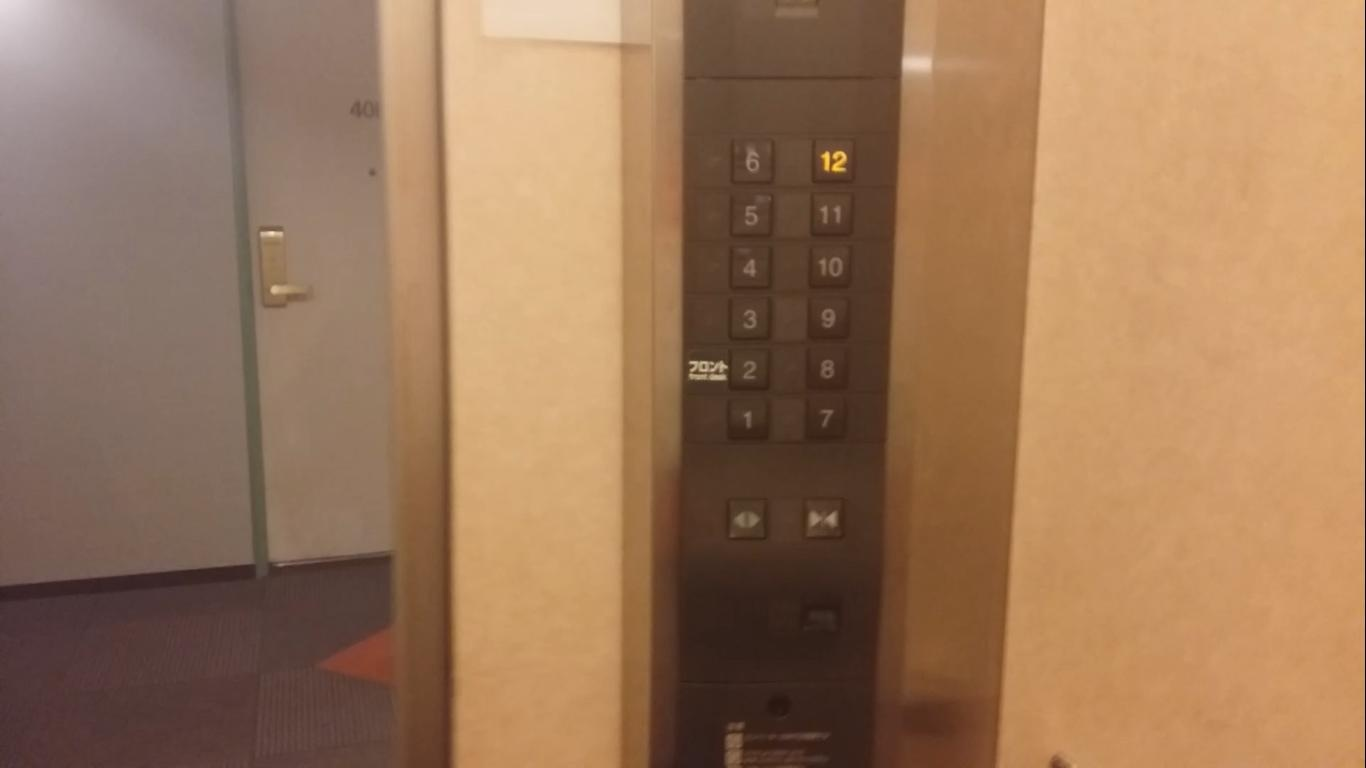1: (724, 394, 772, 445)
10: (803, 242, 853, 290)
11: (806, 189, 856, 239)
12: (810, 135, 858, 186)
2: (725, 345, 772, 392)
3: (725, 292, 776, 342)
4: (726, 240, 775, 292)
5: (728, 190, 776, 239)
6: (728, 133, 777, 188)
7: (802, 393, 850, 443)
8: (802, 341, 851, 391)
9: (803, 293, 851, 342)
close: (797, 492, 848, 543)
open: (724, 493, 769, 543)
